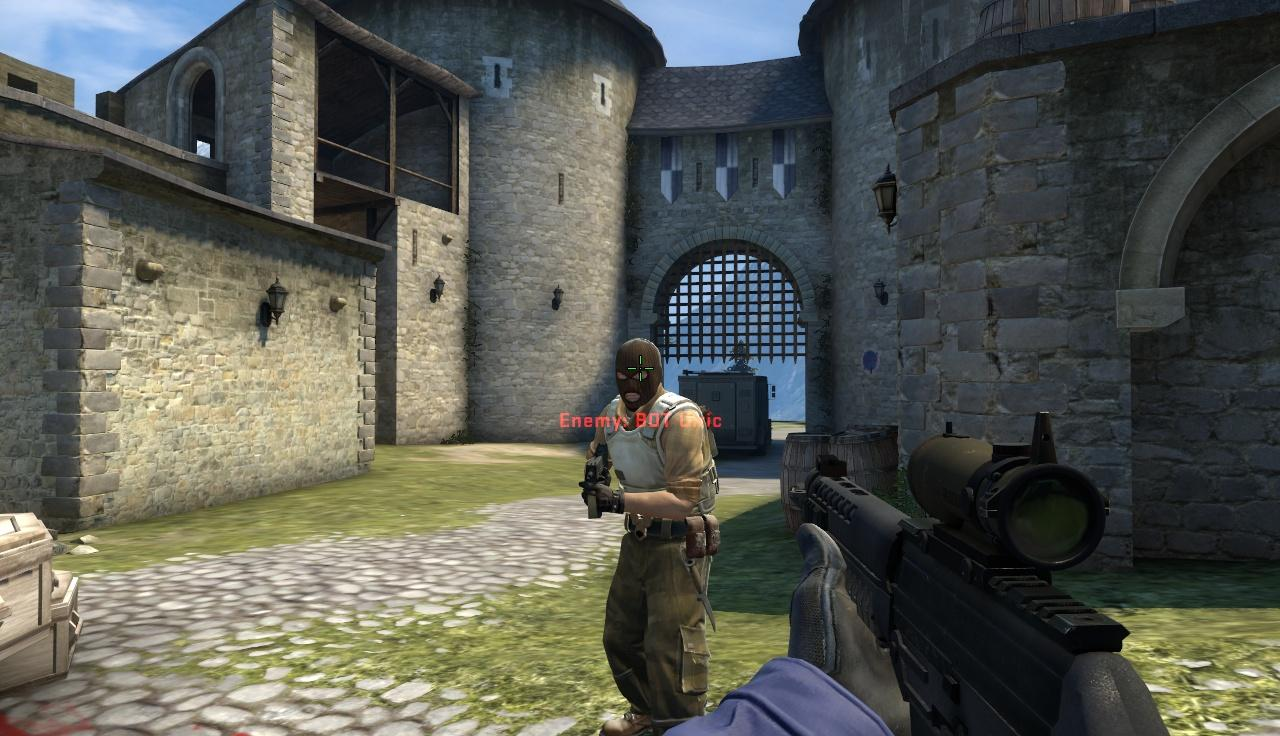rifle: (774, 410, 1171, 732)
tt: (587, 342, 708, 736)
tthead: (614, 339, 662, 408)
